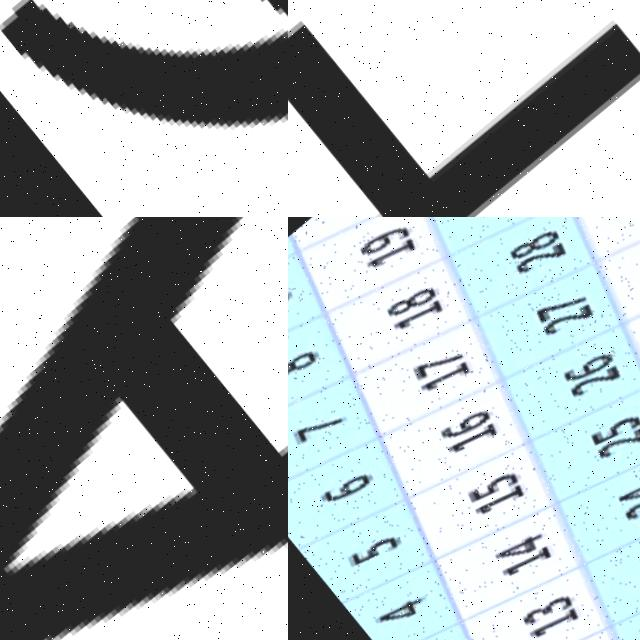1: (454, 471, 531, 542), (377, 286, 451, 355), (353, 224, 425, 291), (431, 412, 502, 478), (403, 349, 473, 415), (486, 536, 554, 599), (513, 595, 586, 640)
2: (550, 356, 625, 426), (526, 293, 601, 362), (504, 231, 574, 296), (578, 417, 640, 485), (607, 482, 640, 544), (475, 217, 547, 235)
3: (497, 576, 578, 640), (625, 527, 640, 593)
4: (467, 513, 554, 593), (359, 584, 425, 640), (603, 466, 640, 529)
5: (448, 454, 526, 527), (330, 519, 405, 589), (578, 404, 640, 466)
6: (0, 0, 288, 217), (425, 393, 501, 463), (546, 342, 618, 409), (304, 459, 374, 524)
7: (393, 332, 468, 403), (525, 283, 590, 343), (288, 401, 345, 460)
8: (370, 270, 446, 340), (499, 218, 567, 281), (288, 334, 322, 396)
9: (345, 217, 418, 277), (288, 272, 297, 335)
A: (0, 217, 288, 640)
F: (288, 0, 640, 217)
